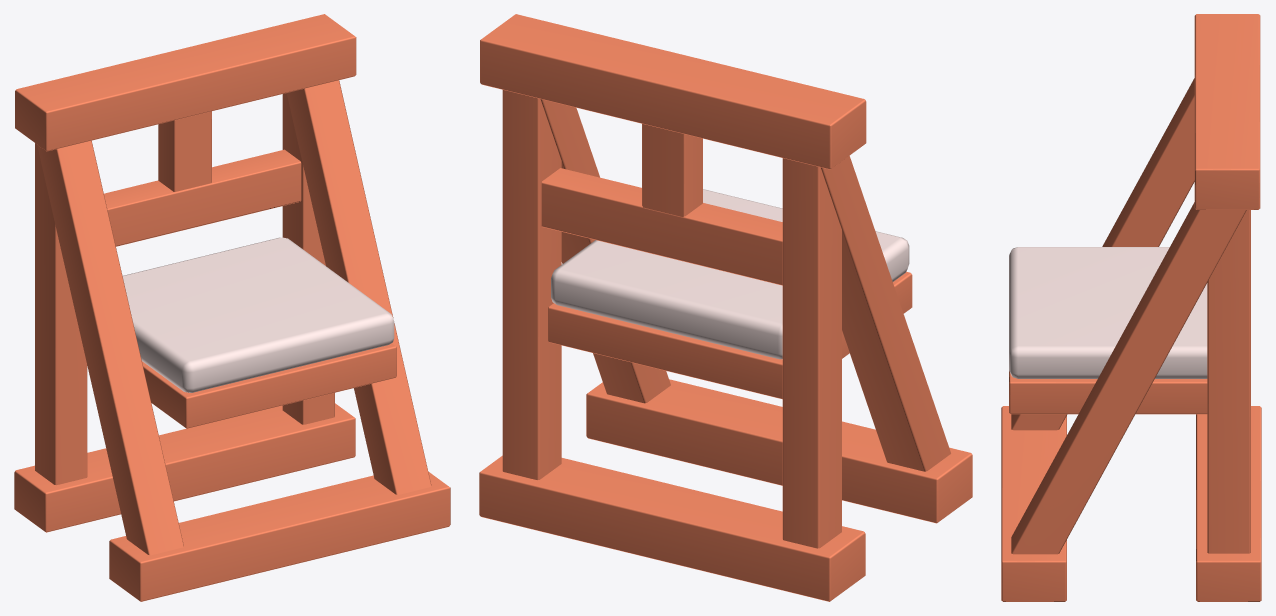
Rendered from Town_20_Chair_1.glb.
The picture shows the model from 3 angles, left to right: view 1: azimuth 30°, elevation 25°; view 2: azimuth 150°, elevation 25°; view 3: azimuth 270°, elevation 25°; orthographic projection. The views are drawn at different scales.
Visible parts, largest first — view 1: Town_20_Chair_1; view 2: Town_20_Chair_1; view 3: Town_20_Chair_1.
Part boxes in pixels (left/top/right/bottom): Town_20_Chair_1: left=14, top=14, right=450, bottom=601; Town_20_Chair_1: left=479, top=14, right=972, bottom=601; Town_20_Chair_1: left=1001, top=14, right=1261, bottom=601.
Size of the model in its own units: 0.7223 by 0.9358 by 0.5095.
1 material, 1 textured.
